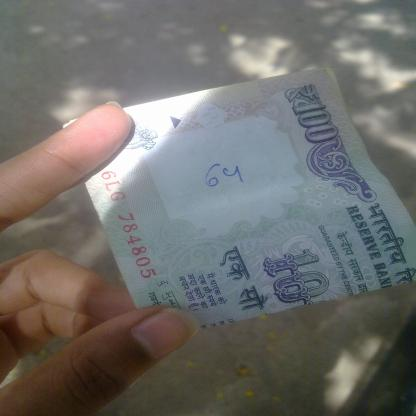Old100Front: (62, 65, 416, 331)
